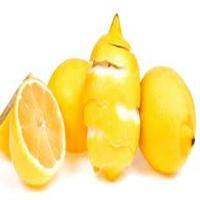biodegradable: (83, 12, 141, 182), (8, 78, 66, 189), (139, 64, 196, 175)
